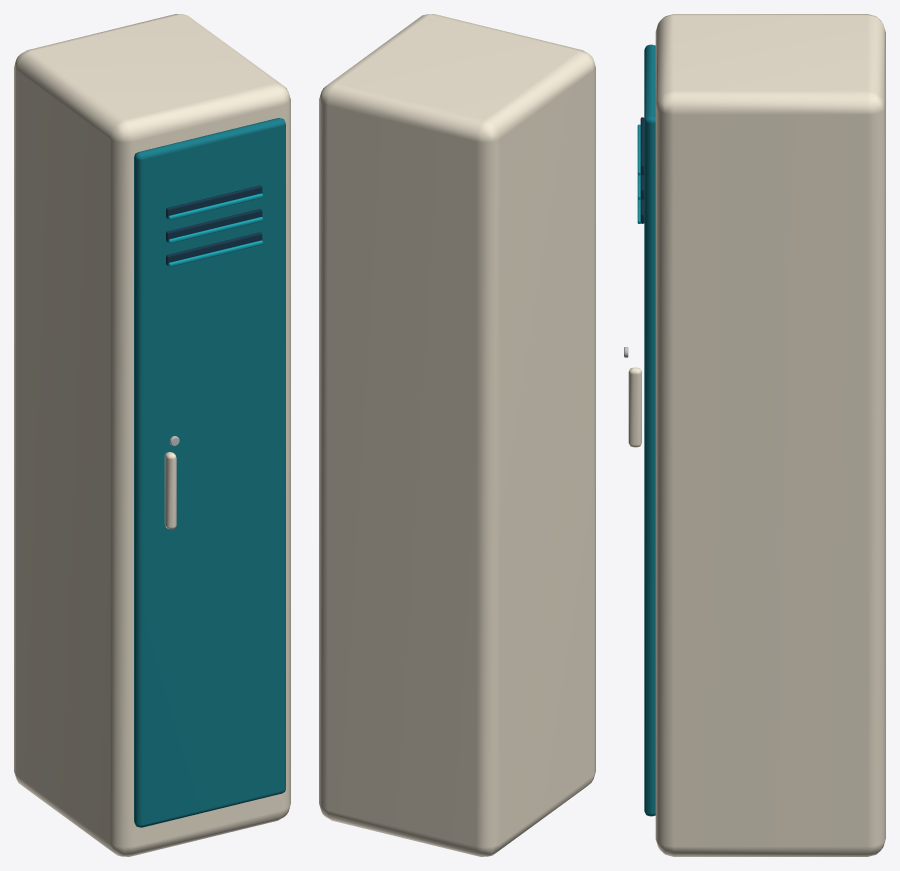
The model's file is Lounge_Locker_Module.glb.
The picture shows the model from 3 angles, left to right: view 1: azimuth 30°, elevation 25°; view 2: azimuth 150°, elevation 25°; view 3: azimuth 270°, elevation 25°; orthographic projection. The views are drawn at different scales.
Visible parts, largest first — view 1: Lounge_Locker_Module__Visual; view 2: Lounge_Locker_Module__Visual; view 3: Lounge_Locker_Module__Visual.
Part boxes in pixels (<box>): Lounge_Locker_Module__Visual: <box>14,14,290,856</box>; Lounge_Locker_Module__Visual: <box>319,14,595,856</box>; Lounge_Locker_Module__Visual: <box>624,14,885,856</box>.
Size of the model in its own units: 0.47 by 1.85 by 0.574.
Materials: 1 (1 with a texture image).
